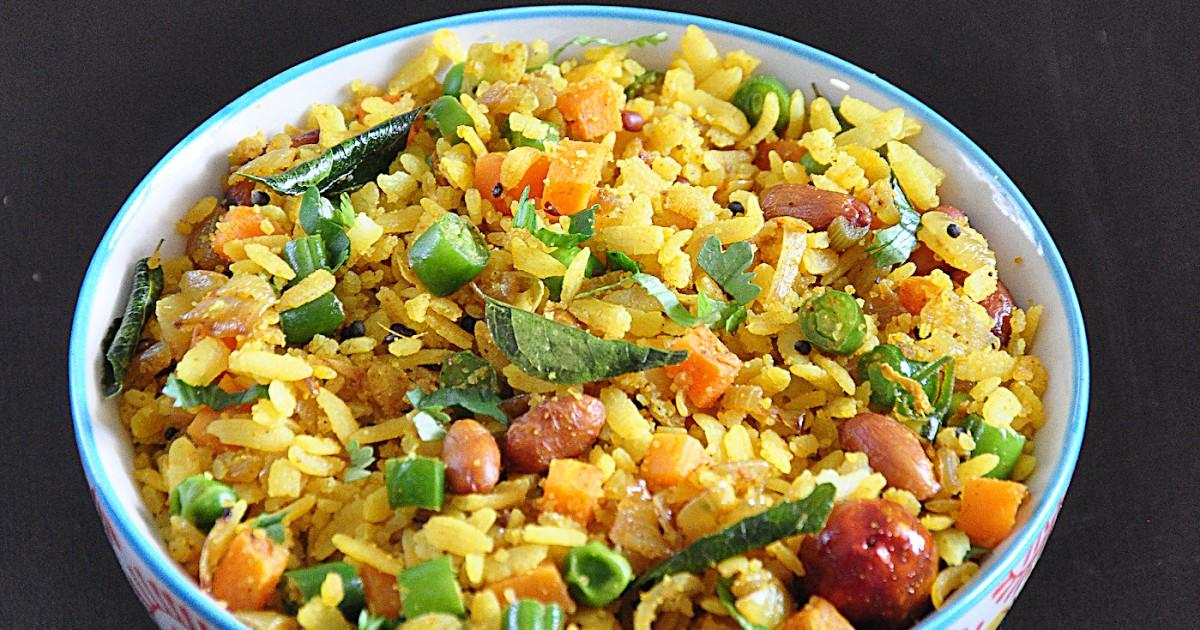Poha: (96, 32, 1038, 630)
